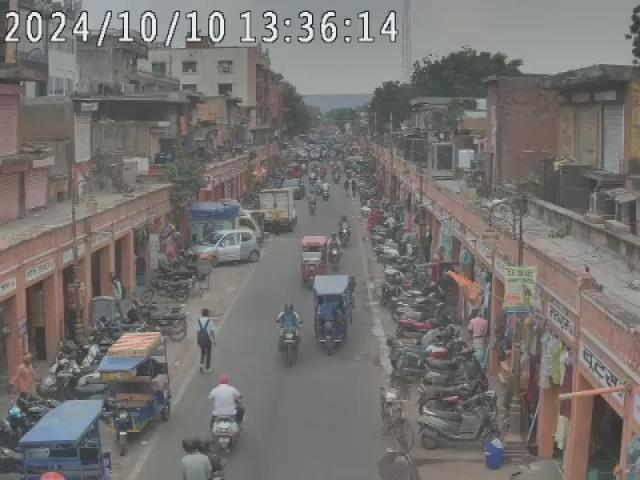auto: (96, 332, 172, 438), (12, 398, 110, 480), (309, 274, 356, 355), (298, 234, 332, 284)
car: (215, 230, 262, 267)
helmet: (217, 375, 233, 388), (284, 303, 295, 313)
motorbike-rider: (182, 437, 230, 480), (276, 303, 304, 369)
person: (194, 308, 218, 372)
scooty: (414, 400, 496, 448), (421, 346, 483, 385)
scooty-rider: (205, 376, 247, 456)
